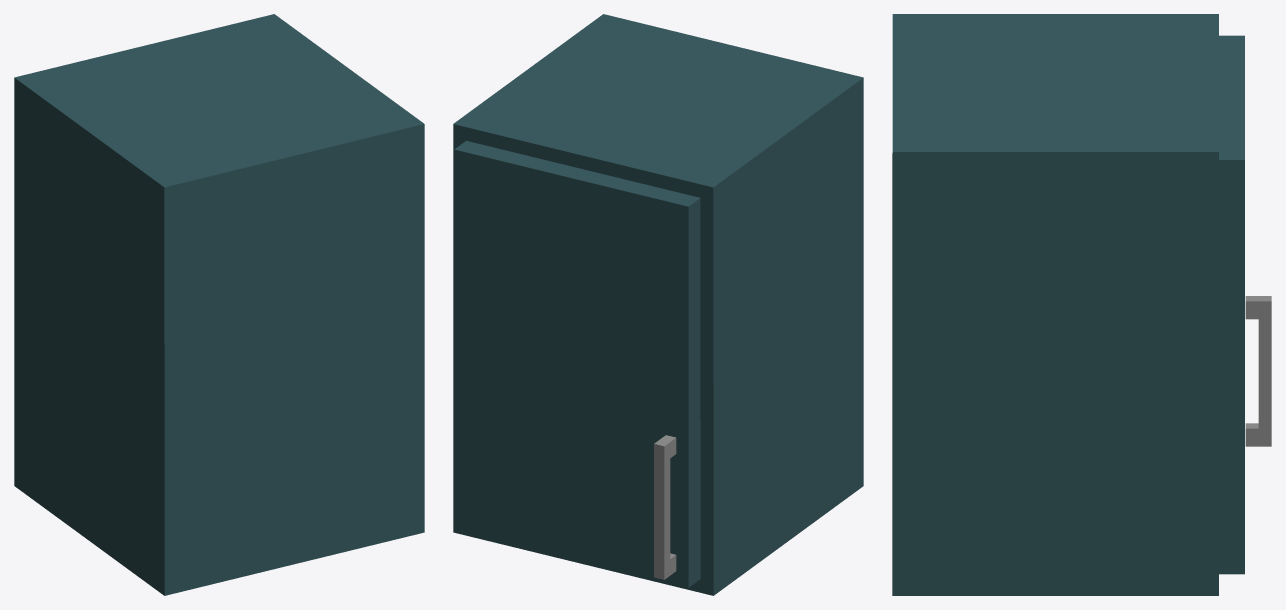
The model's file is TopCabinetLeft.fbx.
3 views of the same model, side by side, from view 1: azimuth 30°, elevation 25°; view 2: azimuth 150°, elevation 25°; view 3: azimuth 270°, elevation 25° (orthographic). The views are drawn at different scales.
Parts seen in each view (by area): view 1: Cabinet001; view 2: Cabinet001, Door001; view 3: Cabinet001, Door001.
Part boxes in pixels (x1=…): Cabinet001: x1=14, y1=14, x2=424, y2=595; Cabinet001: x1=453, y1=14, x2=863, y2=595; Door001: x1=454, y1=140, x2=700, y2=587; Cabinet001: x1=892, y1=14, x2=1218, y2=595; Door001: x1=1219, y1=35, x2=1271, y2=574.
Size of the model in its own units: 50 by 75 by 58.07.
Materials: 1 (1 with a texture image).
